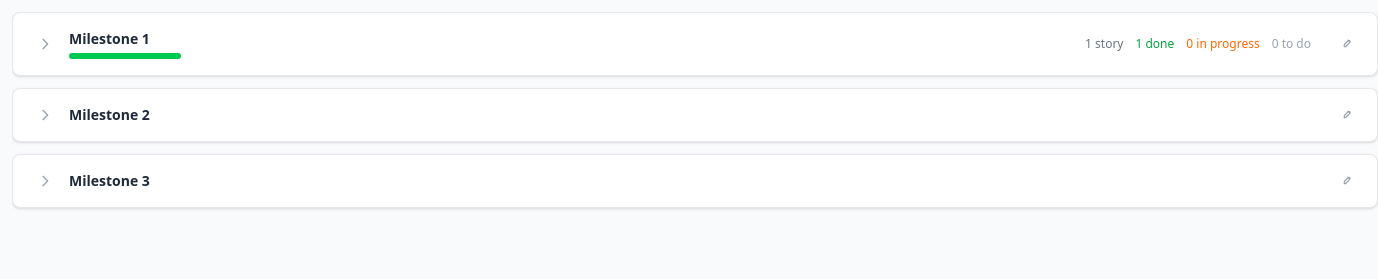
Test: MilestoneWorkspace › keeps complete List progress when the Done card filter hides every story
Expected: the text "1 story" is shown, [1085,36,1123,52]
Expected: the text "1 done" is shown, [1136,36,1174,52]
Click the button "Milestone 1" at x=109, y=38, box [13,13,1335,75]
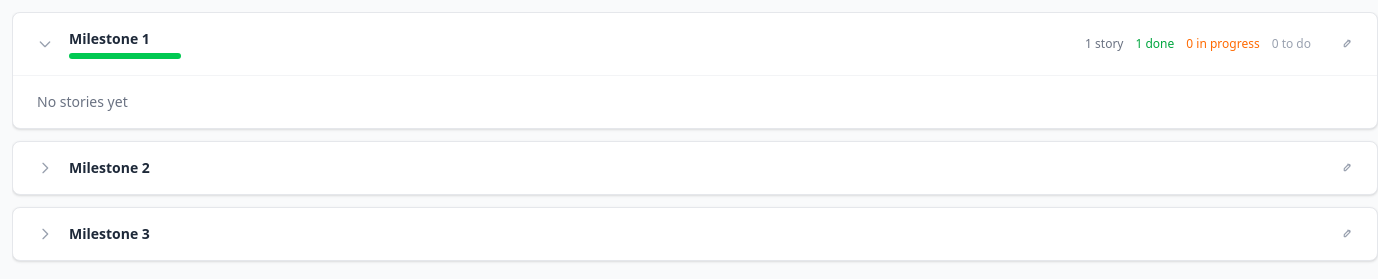
Result: the list item "No stories yet" is shown at [37,92,128,111]
